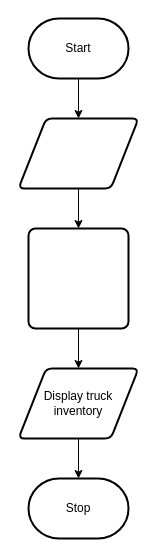
Some shapes in this 156 by 556 pixel diagram are drawn without their labels. The shapes that lost their labels are listed below. From the top down, each one's centre as x and y in pixels, then its label:
the point at 78,153: Enter log_length
the point at 78,278: truck_inventory = 1100 / (20 * log_length)
